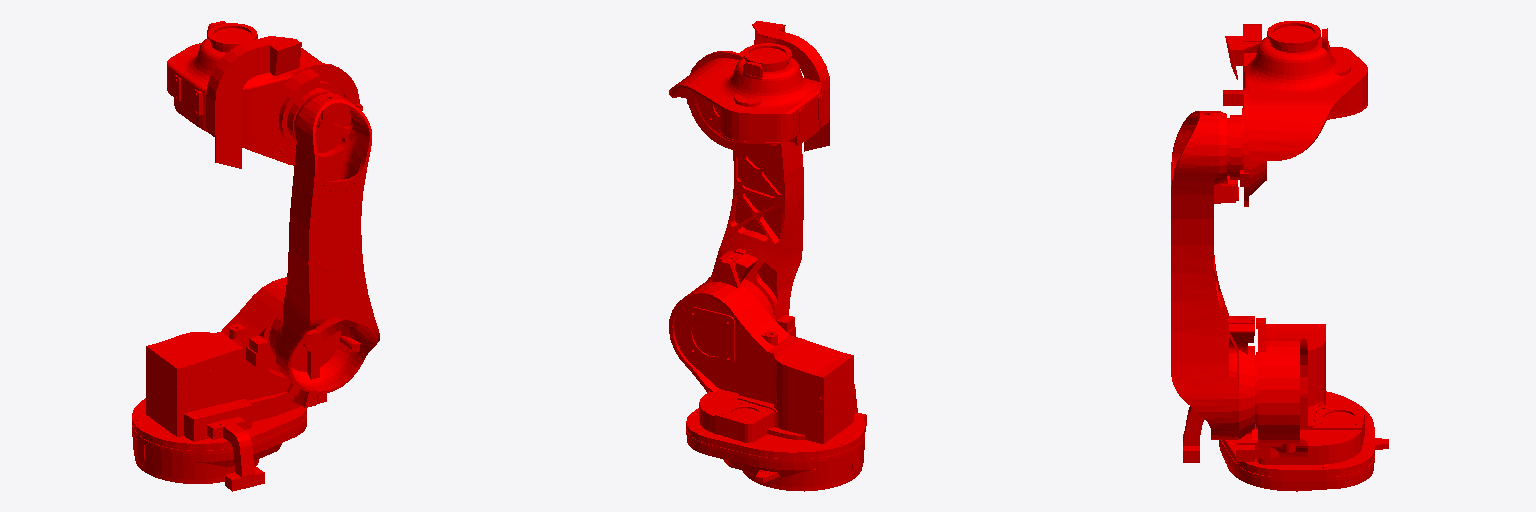
robot.urdf — comau_ns16hand:
<?xml version="1.0" ?>
<!-- =================================================================================== -->
<!-- |    This document was autogenerated by xacro from comau_ns16hand.xacro           | -->
<!-- |    EDITING THIS FILE BY HAND IS NOT RECOMMENDED                                 | -->
<!-- =================================================================================== -->
<robot name="comau_ns16hand" xmlns:xacro="http://ros.org/wiki/xacro">
  <link name="base_link">
    <visual>
      <origin rpy="0 0 0" xyz="0 0 0"/>
      <geometry>
        <mesh filename="package://comau_ns16hand_support/meshes/base_link.STL"/>
      </geometry>
      <material name="Red">
        <color rgba="1 0 0 1"/>
      </material>
    </visual>
    <collision>
      <origin rpy="0 0 0" xyz="0 0 0"/>
      <geometry>
        <mesh filename="package://comau_ns16hand_support/meshes/base_link.STL"/>
      </geometry>
    </collision>
  </link>
  <link name="Link_1">
    <inertial>
      <origin rpy="0 0 0" xyz="0.092687 0.0098815 -0.17643"/>
      <mass value="295.32"/>
      <inertia ixx="5.9793" ixy="0.12844" ixz="-1.8884" iyy="9.5747" iyz="-0.45474" izz="8.0459"/>
    </inertial>
    <visual>
      <origin rpy="0 0 0" xyz="0 0 0"/>
      <geometry>
        <mesh filename="package://comau_ns16hand_support/meshes/Link_1.STL"/>
      </geometry>
      <material name="">
        <color rgba="1 0 0 1"/>
      </material>
    </visual>
    <collision>
      <origin rpy="0 0 0" xyz="0 0 0"/>
      <geometry>
        <mesh filename="package://comau_ns16hand_support/meshes/Link_1.STL"/>
      </geometry>
    </collision>
  </link>
  <joint name="Joint_1" type="revolute">
    <origin rpy="-3.1416 0 0" xyz="0 0 0.251"/>
    <parent link="base_link"/>
    <child link="Link_1"/>
    <axis xyz="0 0 1"/>
    <limit effort="0" lower="-3.14159" upper="3.14159" velocity="0"/>
  </joint>
  <link name="Link_2">
    <inertial>
      <origin rpy="0 0 0" xyz="0.012589 0.28782 -0.10477"/>
      <mass value="58.959"/>
      <inertia ixx="3.913" ixy="0.07732" ixz="-0.024978" iyy="0.47847" iyz="-0.39274" izz="3.9572"/>
    </inertial>
    <visual>
      <origin rpy="0 0 0" xyz="0 0 0"/>
      <geometry>
        <mesh filename="package://comau_ns16hand_support/meshes/Link_2.STL"/>
      </geometry>
      <material name="">
        <color rgba="1 0 0 1"/>
      </material>
    </visual>
    <collision>
      <origin rpy="0 0 0" xyz="0 0 0"/>
      <geometry>
        <mesh filename="package://comau_ns16hand_support/meshes/Link_2.STL"/>
      </geometry>
    </collision>
  </link>
  <joint name="Joint_2" type="revolute">
    <origin rpy="-1.5708 0 3.1416" xyz="0.3 0.101 -0.349"/>
    <parent link="Link_1"/>
    <child link="Link_2"/>
    <axis xyz="0 0 1"/>
    <limit effort="0" lower="-0.87266" upper="1.658" velocity="0"/>
  </joint>
  <link name="Link_3">
    <inertial>
      <origin rpy="0 0 0" xyz="0.081754 0.13848 -0.077319"/>
      <mass value="127.93"/>
      <inertia ixx="2.6486" ixy="0.38607" ixz="-0.293" iyy="1.6625" iyz="-0.60693" izz="2.2741"/>
    </inertial>
    <visual>
      <origin rpy="0 0 0" xyz="0 0 0"/>
      <geometry>
        <mesh filename="package://comau_ns16hand_support/meshes/Link_3.STL"/>
      </geometry>
      <material name="">
        <color rgba="1 0 0 1"/>
      </material>
    </visual>
    <collision>
      <origin rpy="0 0 0" xyz="0 0 0"/>
      <geometry>
        <mesh filename="package://comau_ns16hand_support/meshes/Link_3.STL"/>
      </geometry>
    </collision>
  </link>
  <joint name="Joint_3" type="revolute">
    <origin rpy="3.1416 0 1.5708" xyz="0 0.7 0"/>
    <parent link="Link_2"/>
    <child link="Link_3"/>
    <axis xyz="0 0 1"/>
    <limit effort="0" lower="-2.967" upper="1.9198" velocity="0"/>
  </joint>
  <link name="Link_4">
    <inertial>
      <origin rpy="0 0 0" xyz="-4.3765E-06 -0.01007 -0.27556"/>
      <mass value="37.589"/>
      <inertia ixx="0.65662" ixy="-3.6419E-06" ixz="-2.0413E-05" iyy="0.54018" iyz="0.026907" izz="0.177"/>
    </inertial>
    <visual>
      <origin rpy="0 0 0" xyz="0 0 0"/>
      <geometry>
        <mesh filename="package://comau_ns16hand_support/meshes/Link_4.STL"/>
      </geometry>
      <material name="">
        <color rgba="1 0 0 1"/>
      </material>
    </visual>
    <collision>
      <origin rpy="0 0 0" xyz="0 0 0"/>
      <geometry>
        <mesh filename="package://comau_ns16hand_support/meshes/Link_4.STL"/>
      </geometry>
    </collision>
  </link>
  <joint name="Joint_4" type="revolute">
    <origin rpy="-1.5708 0 1.5708" xyz="0.238 0.185 -0.101"/>
    <parent link="Link_3"/>
    <child link="Link_4"/>
    <axis xyz="0 0 1"/>
    <limit effort="0" lower="-6.2831853" upper="6.2831853" velocity="0"/>
  </joint>
  <link name="Link_5">
    <inertial>
      <origin rpy="0 0 0" xyz="0.053501 -2.0551E-05 -0.0011681"/>
      <mass value="5.6467"/>
      <inertia ixx="0.0051083" ixy="6.1292E-06" ixz="0.00019799" iyy="0.011737" iyz="4.2034E-06" izz="0.011695"/>
    </inertial>
    <visual>
      <origin rpy="0 0 0" xyz="0 0 0"/>
      <geometry>
        <mesh filename="package://comau_ns16hand_support/meshes/Link_5.STL"/>
      </geometry>
      <material name="">
        <color rgba="0.50196 0.50196 0.50196 1"/>
      </material>
    </visual>
    <collision>
      <origin rpy="0 0 0" xyz="0 0 0"/>
      <geometry>
        <mesh filename="package://comau_ns16hand_support/meshes/Link_5.STL"/>
      </geometry>
    </collision>
  </link>
  <joint name="Joint_5" type="revolute">
    <origin rpy="-1.5708 1.5708 0" xyz="0 0 -0.386"/>
    <parent link="Link_4"/>
    <child link="Link_5"/>
    <axis xyz="0 0 1"/>
    <limit effort="0" lower="-3.14159" upper="3.14159" velocity="0"/>
  </joint>
  <link name="Link_6">
    <inertial>
      <origin rpy="0 0 0" xyz="-0.0022013 2.0382E-05 -0.017234"/>
      <mass value="1.2001"/>
      <inertia ixx="0.00098201" ixy="5.385E-08" ixz="-7.915E-06" iyy="0.00086572" iyz="3.5423E-07" izz="0.0017201"/>
    </inertial>
    <visual>
      <origin rpy="0 0 0" xyz="0 0 0"/>
      <geometry>
        <mesh filename="package://comau_ns16hand_support/meshes/Link_6.STL"/>
      </geometry>
      <material name="">
        <color rgba="0.25098 0.25098 0.25098 1"/>
      </material>
    </visual>
    <collision>
      <origin rpy="0 0 0" xyz="0 0 0"/>
      <geometry>
        <mesh filename="package://comau_ns16hand_support/meshes/Link_6.STL"/>
      </geometry>
    </collision>
  </link>
  <joint name="Joint_6" type="revolute">
    <origin rpy="1.5708 0 -1.5708" xyz="0.106 0 0"/>
    <parent link="Link_5"/>
    <child link="Link_6"/>
    <axis xyz="0 0 1"/>
    <limit effort="0" lower="-6.2831853" upper="6.2831853" velocity="0"/>
  </joint>
  <link name="Flange"/>
  <joint name="Flange_fixed" type="fixed">
    <origin rpy="3.1416 0 3.1416" xyz="0 0 -0.029"/>
    <parent link="Link_6"/>
    <child link="Flange"/>
    <axis xyz="0 0 0"/>
  </joint>
  <link name="ee_link"/>
  <joint name="ee_link_fixed" type="fixed">
    <origin rpy="0 0 0" xyz="0.0 0.0 0.0"/>
    <parent link="Flange"/>
    <child link="ee_link"/>
    <axis xyz="0 0 0"/>
  </joint>
  <!-- ROS base_link to COMAU World Coordinates transform -->
  <link name="base"/>
  <joint name="base_link-base" type="fixed">
    <origin rpy="0 0 0" xyz="0 0 0"/>
    <child link="base"/>
    <parent link="base_link"/>
  </joint>
  <!-- Frame coincident with all-zeros TCP on UR controller -->
  <link name="world"/>
  <joint name="world_joint" type="fixed">
    <child link="world"/>
    <parent link="base"/>
    <origin rpy="0 0 -3.14159265" xyz="0.0 0.0 0.0"/>
  </joint>
</robot>

--- What the picture shows (computed from the rendered views, not written in the file) ---
Views: 3 orthographic renders of the robot side by side, from view 1: azimuth 30°, elevation 25°; view 2: azimuth 150°, elevation 25°; view 3: azimuth 270°, elevation 25°.
Robot: comau_ns16hand — 11 links, 10 joints (6 revolute, 4 fixed); root link base_link; default pose: every joint at zero.
Visible links, largest first — view 1: Link_1, Link_2, Link_3; view 2: Link_1, Link_3, Link_2; view 3: Link_2, Link_1, Link_3.
Link boxes in pixels (box(x1,y1,x2,y2)): Link_1: box(132, 277, 326, 491); Link_2: box(275, 93, 379, 393); Link_3: box(167, 21, 362, 168); Link_1: box(669, 258, 866, 491); Link_3: box(669, 21, 829, 151); Link_2: box(706, 141, 803, 320); Link_2: box(1171, 111, 1254, 439); Link_1: box(1183, 318, 1388, 491); Link_3: box(1223, 21, 1367, 206).
Size in the robot's own frame: 0.6445 by 0.568 by 1.3 metres.
3 mesh visuals loaded from 7 distinct referenced files (3 binary STL); not drawn: 4 (reference not matched to a file when rendering).